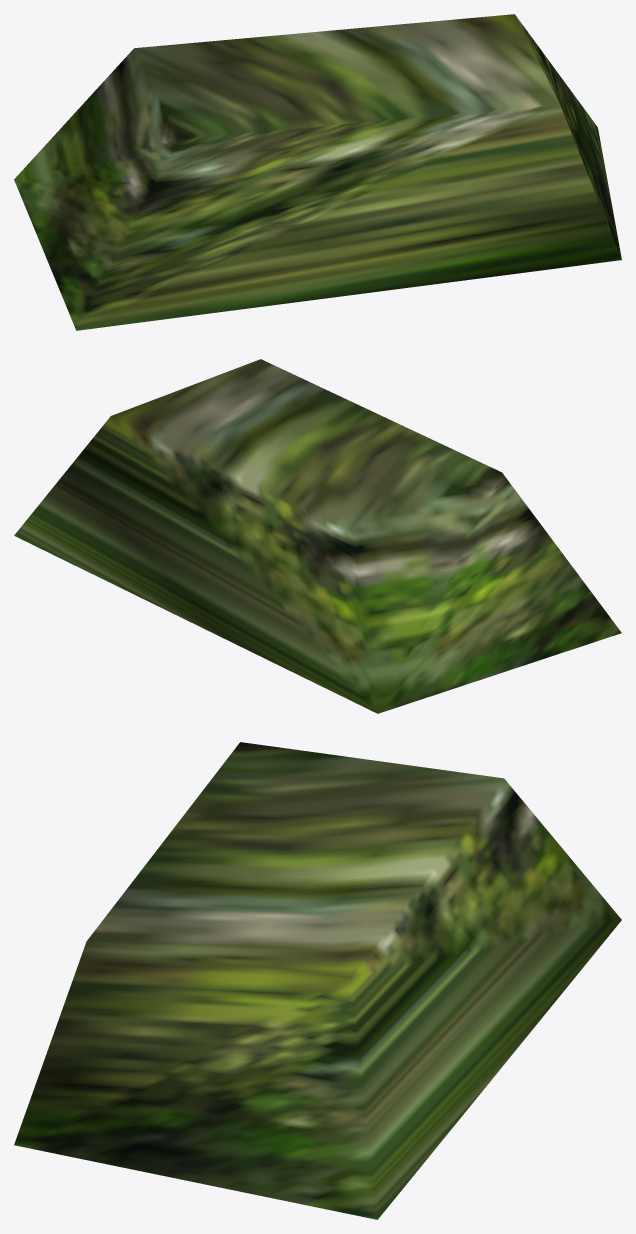
File: frst_rock_mossy_sm_a1_l2.fbx
The picture shows the model from 3 angles, top to bottom: view 1: azimuth 30°, elevation 25°; view 2: azimuth 150°, elevation 25°; view 3: azimuth 270°, elevation 25°; orthographic projection. The views are drawn at different scales.
Visible parts, largest first — view 1: mesh_node; view 2: mesh_node; view 3: mesh_node.
Boxes of the visible parts, x1,y1,x2,y2 form: mesh_node: (14,14,621,330); mesh_node: (14,359,621,713); mesh_node: (14,742,621,1219).
Size of the model in its own units: 1.17 by 0.2934 by 0.8197.
